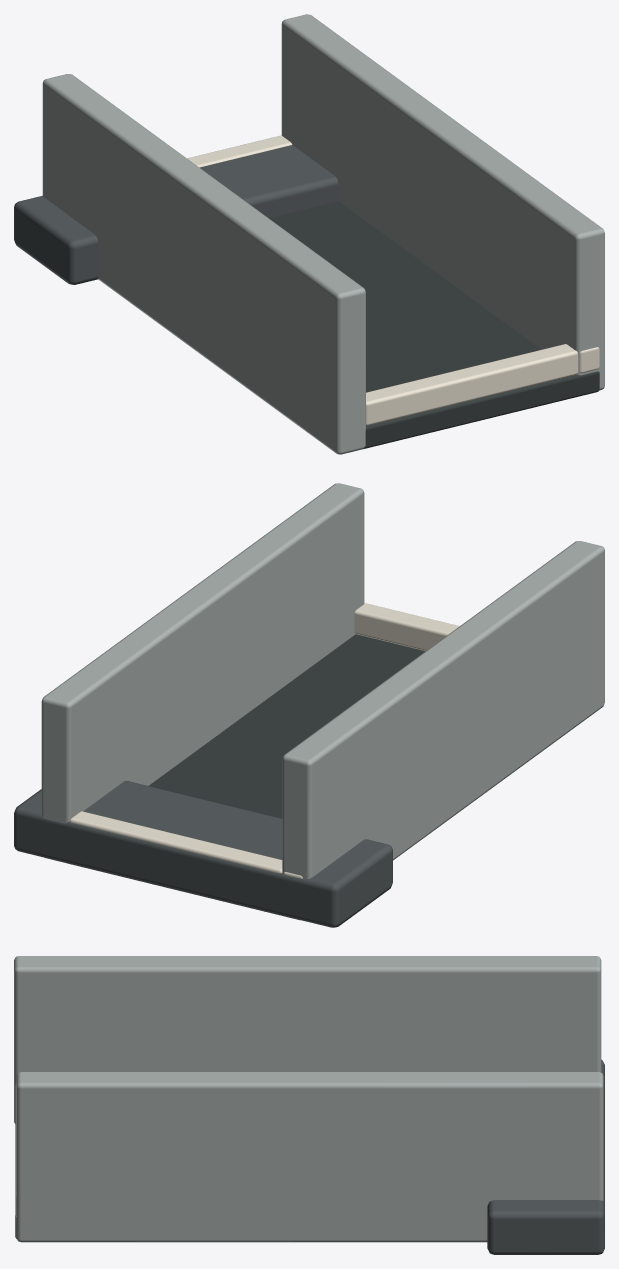
The model's file is coffee-roastery-and-cupping-room-coffee-roastery-and-c-62233d7c__32202.glb.
3 renders of one model, top to bottom at view 1: azimuth 30°, elevation 25°; view 2: azimuth 150°, elevation 25°; view 3: azimuth 270°, elevation 25°, orthographic.
Visible parts, largest first — view 1: coffee-roastery-and-cupping-room-bean-discharge-chute; view 2: coffee-roastery-and-cupping-room-bean-discharge-chute; view 3: coffee-roastery-and-cupping-room-bean-discharge-chute.
Part boxes in pixels (left/top/right/bottom): coffee-roastery-and-cupping-room-bean-discharge-chute: left=14, top=14, right=604, bottom=454; coffee-roastery-and-cupping-room-bean-discharge-chute: left=14, top=483, right=604, bottom=927; coffee-roastery-and-cupping-room-bean-discharge-chute: left=14, top=956, right=604, bottom=1254.
Size of the model in its own units: 0.38 by 0.18 by 0.6036.
